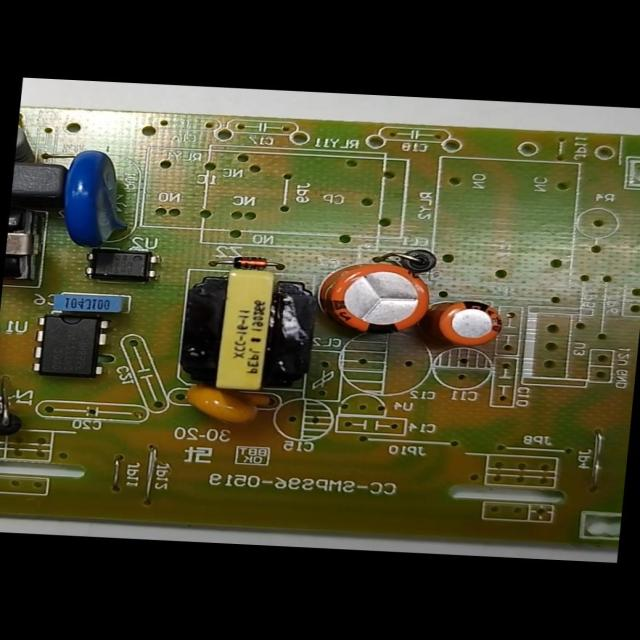Cap1: (311, 254, 436, 347)
Cap2: (420, 292, 510, 354)
MOSFET: (23, 304, 120, 387)
Mov: (54, 144, 142, 254)
Resistor: (15, 116, 47, 165)
Transformer: (175, 262, 327, 402), (3, 202, 46, 286)
